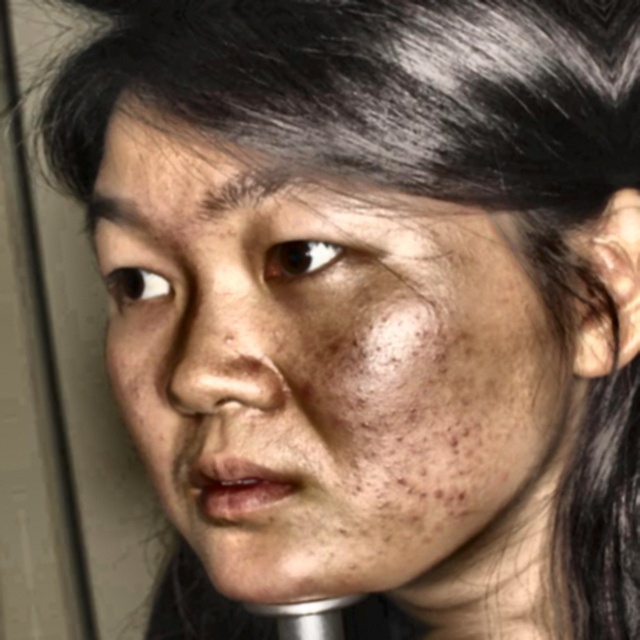comedone: (298, 379, 322, 401)
